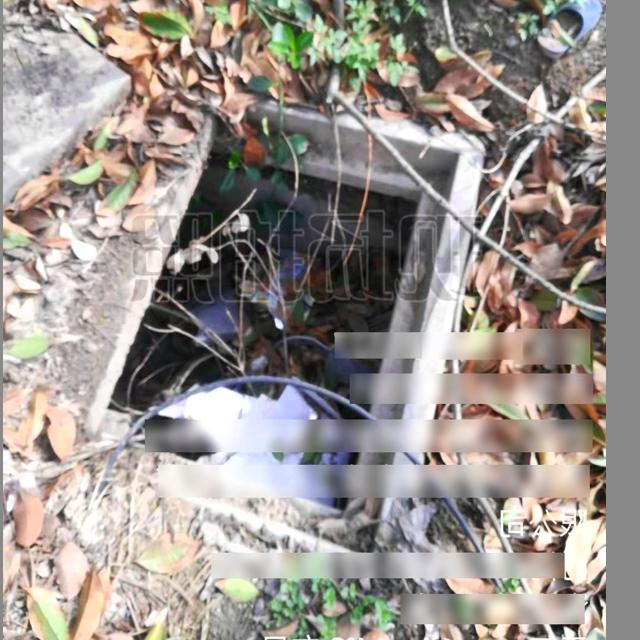lose: (81, 90, 488, 575)
